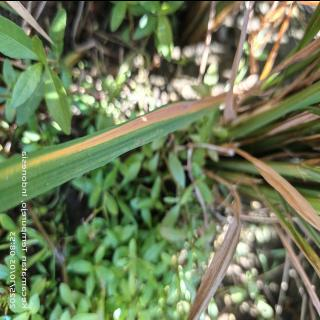Hawar-Daun: (34, 99, 220, 163)
